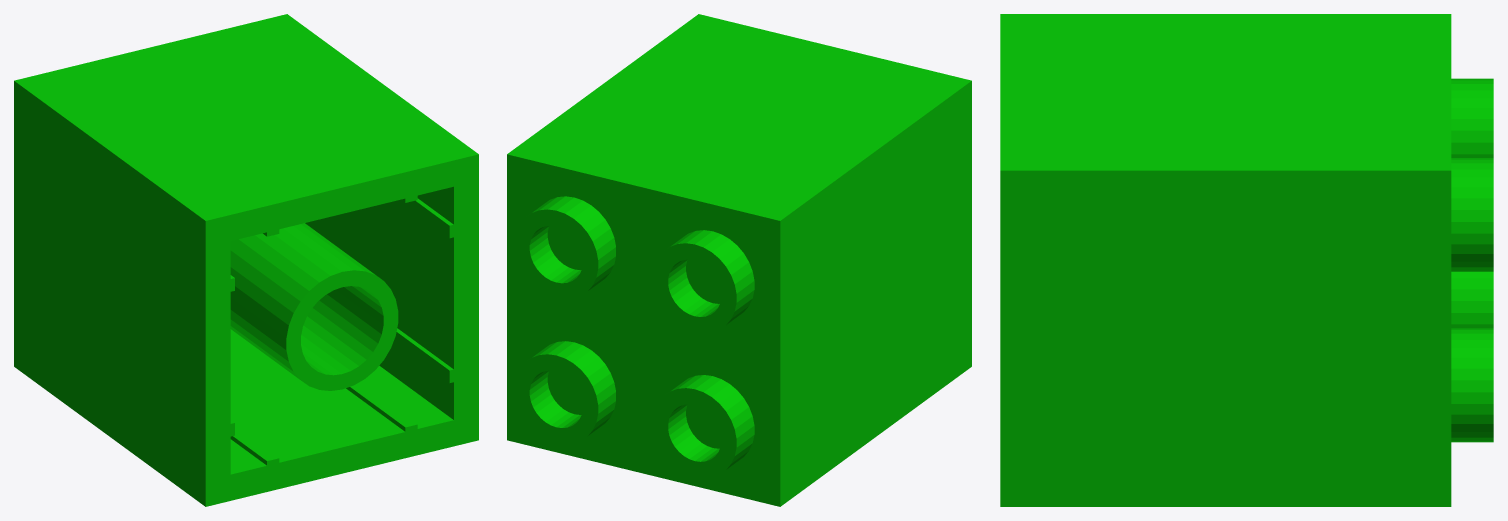
The model's file is duplo5_0.dae.
3 renders of one model, left to right at view 1: azimuth 30°, elevation 25°; view 2: azimuth 150°, elevation 25°; view 3: azimuth 270°, elevation 25°, orthographic. The views are drawn at different scales.
Parts seen in each view (by area): view 1: duplo5; view 2: duplo5; view 3: duplo5.
Part boxes in pixels (box(x1,y1,x2,y2)): duplo5: box(14, 14, 478, 506); duplo5: box(507, 14, 971, 506); duplo5: box(1000, 14, 1493, 506).
Size of the model in its own units: 0.096 by 0.1276 by 0.096.
